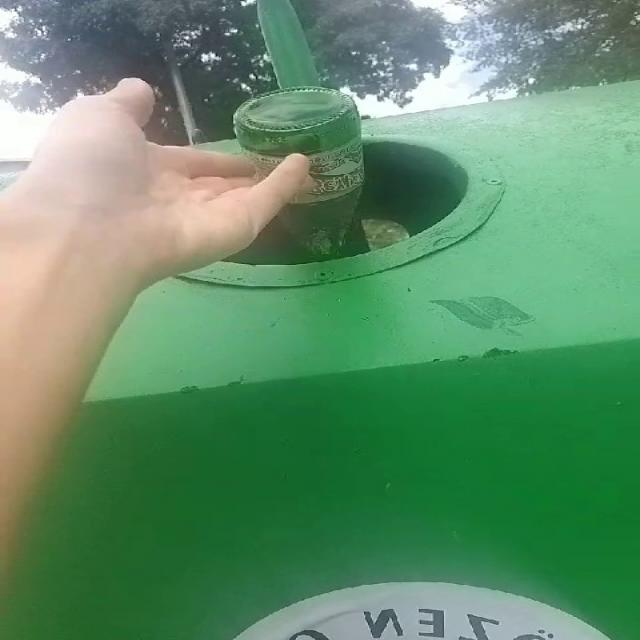glass: (233, 85, 368, 252)
